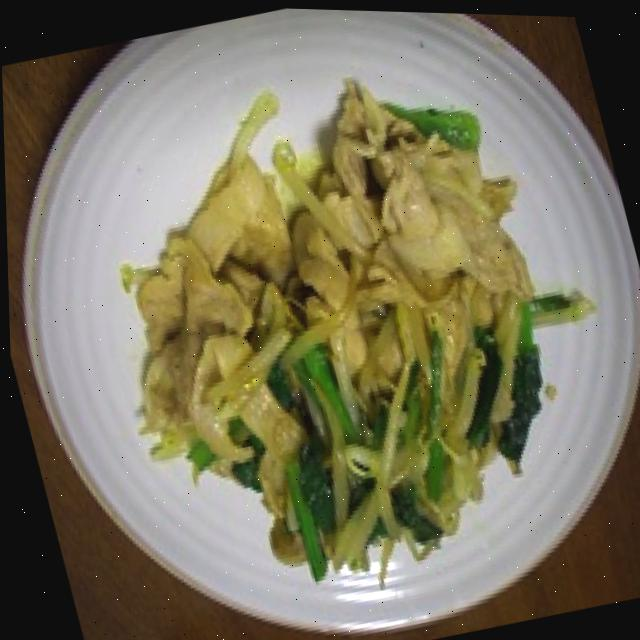蔬菜料理: (45, 45, 640, 625)
